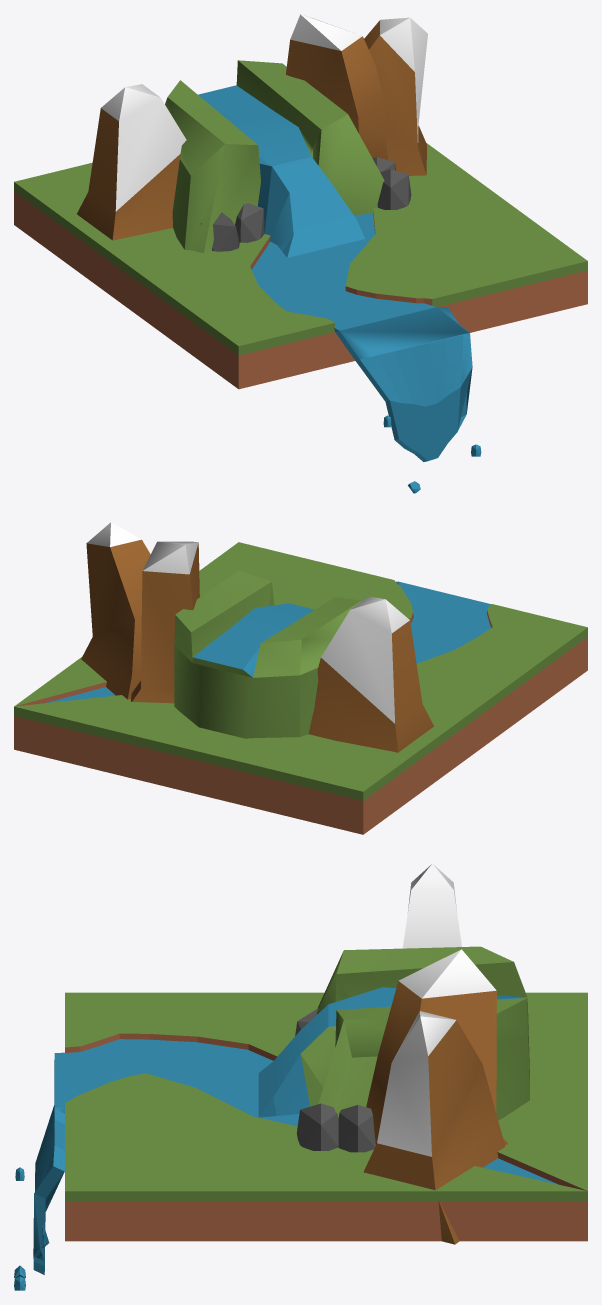
The model's file is Mountain.gltf.
3 renders of one model, top to bottom at view 1: azimuth 30°, elevation 25°; view 2: azimuth 150°, elevation 25°; view 3: azimuth 270°, elevation 25°, orthographic. The views are drawn at different scales.
Parts seen in each view (by area): view 1: node-0; view 2: node-0; view 3: node-0.
Boxes of the visible parts, box(x1,y1,x2,y2) form: node-0: box(14, 14, 587, 493); node-0: box(14, 522, 587, 834); node-0: box(14, 863, 587, 1290).
Bounding box in the file's own units: 121 × 104 × 145.
